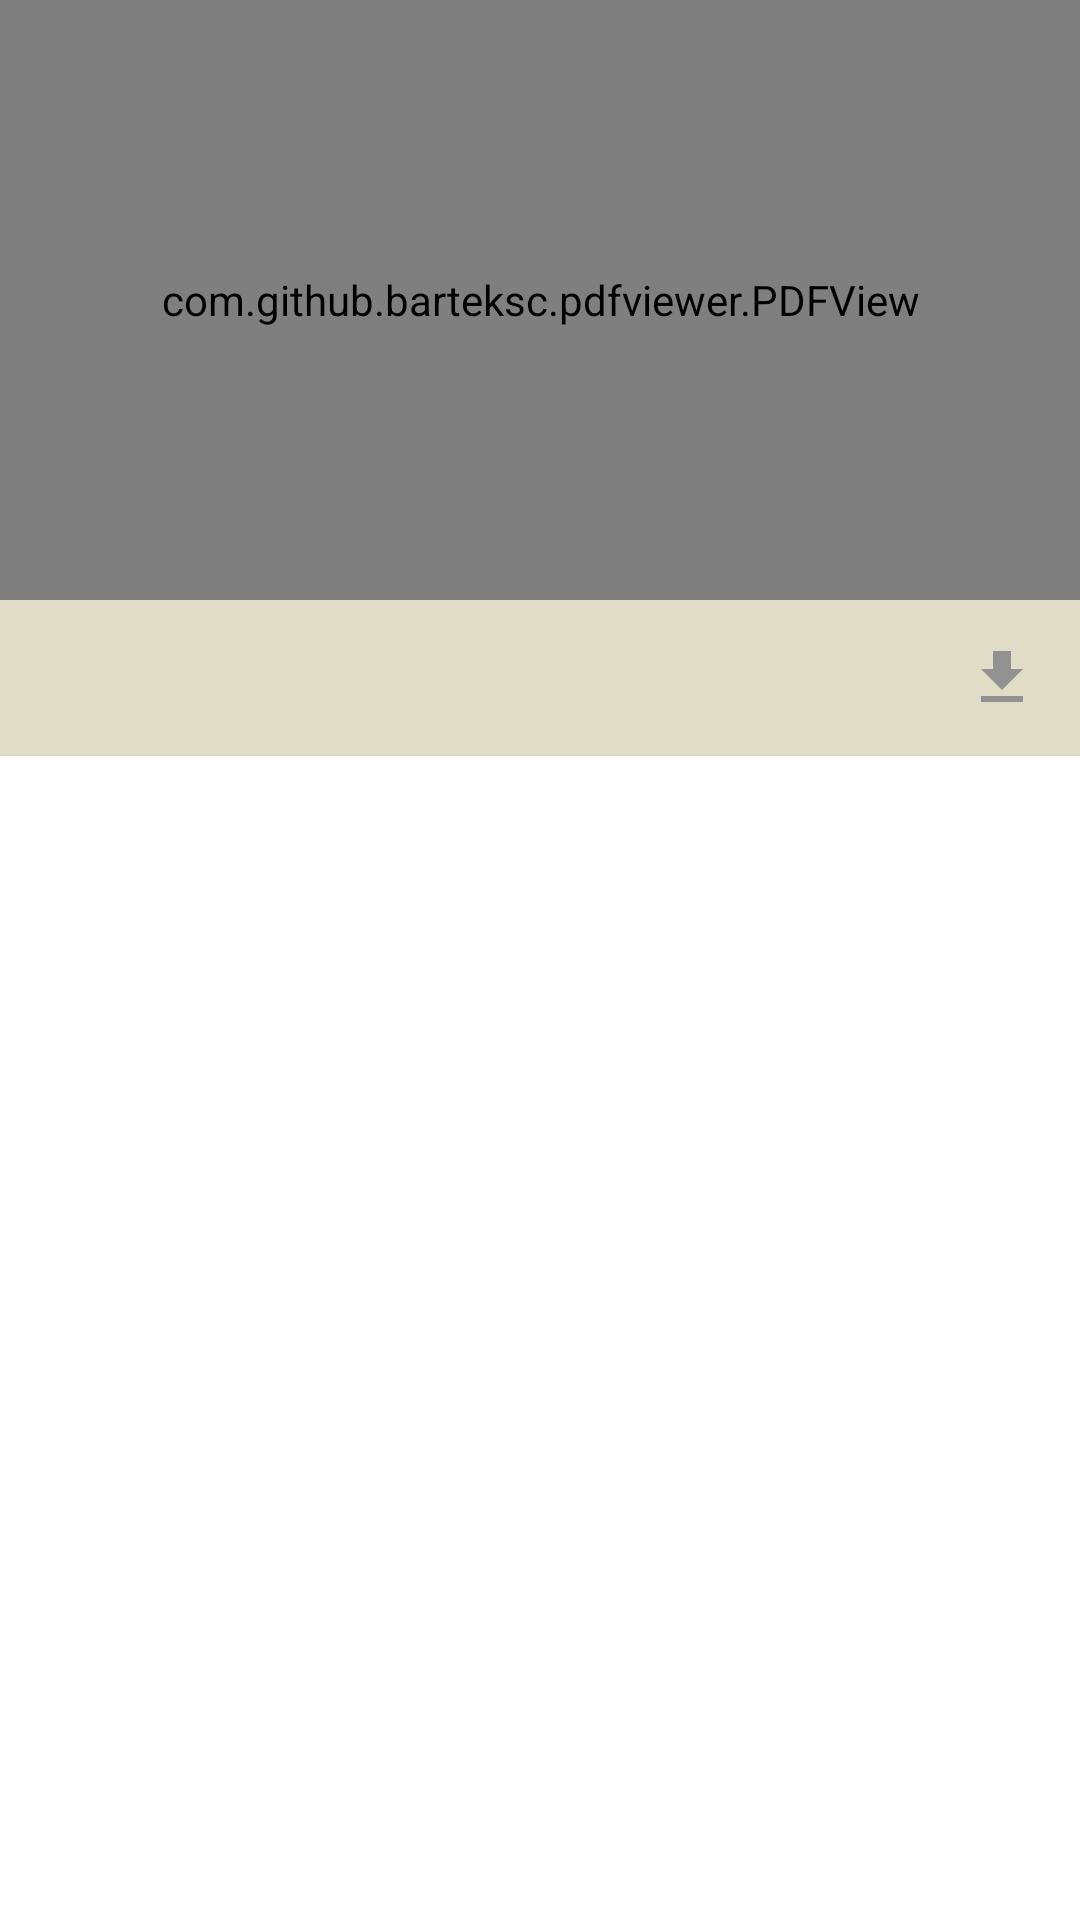

Icons on this 1080px x 1920px Android screen, each with the point to tap as point (x, y):
download: point (1002, 676)
